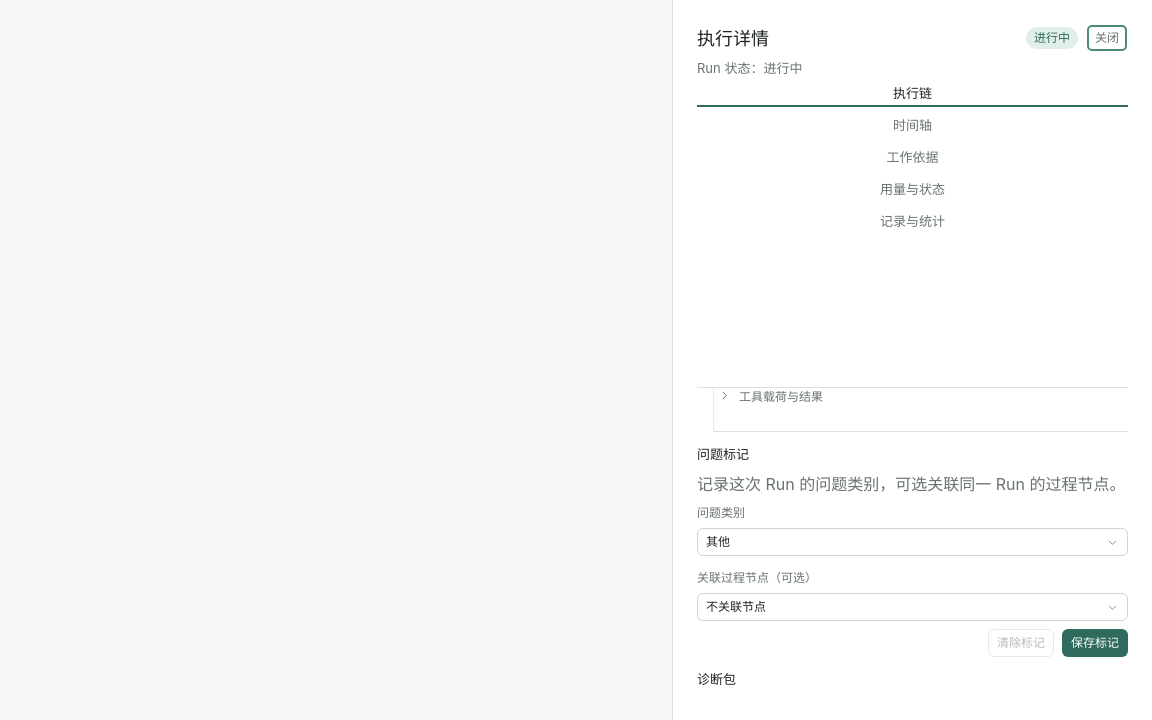
Scenario: RunExecutionDetails › retains the selected issue mark after a save error and confirms a later save once
The image size is (1152, 720).
(page scrolled)
Click the button named "问题类别".
click(718, 542)  # box [697,528,1128,556]
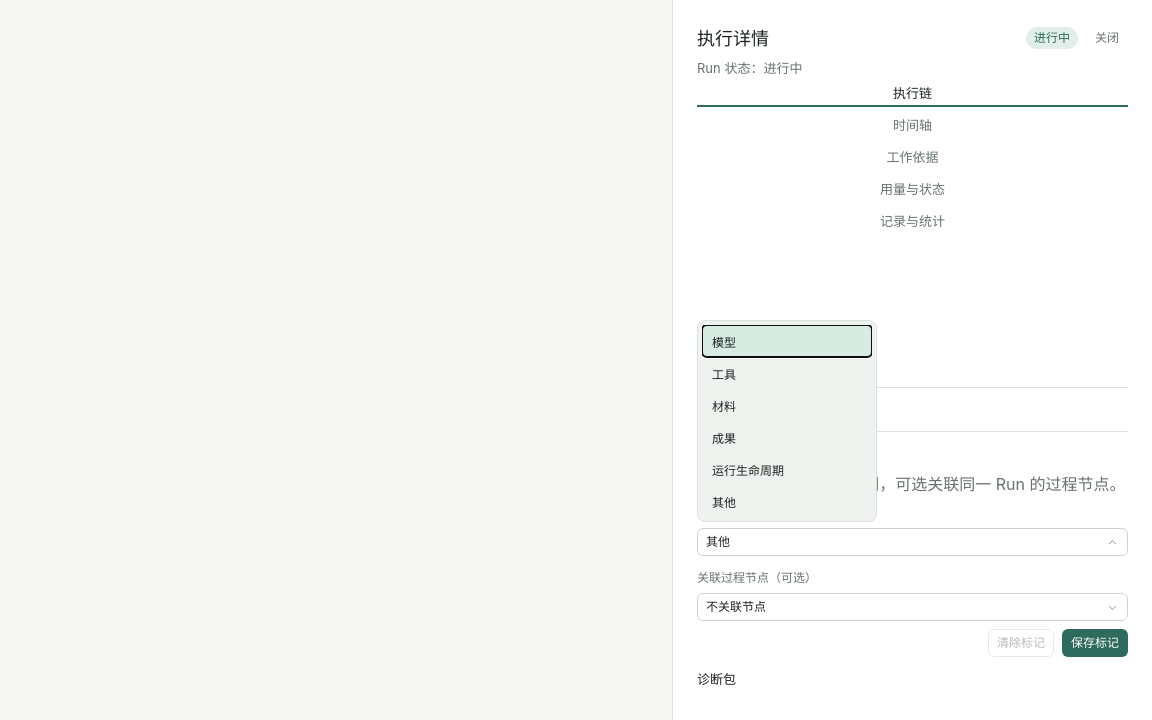
Click the menu item "工具".
click(724, 374)  # box [712,366,736,382]
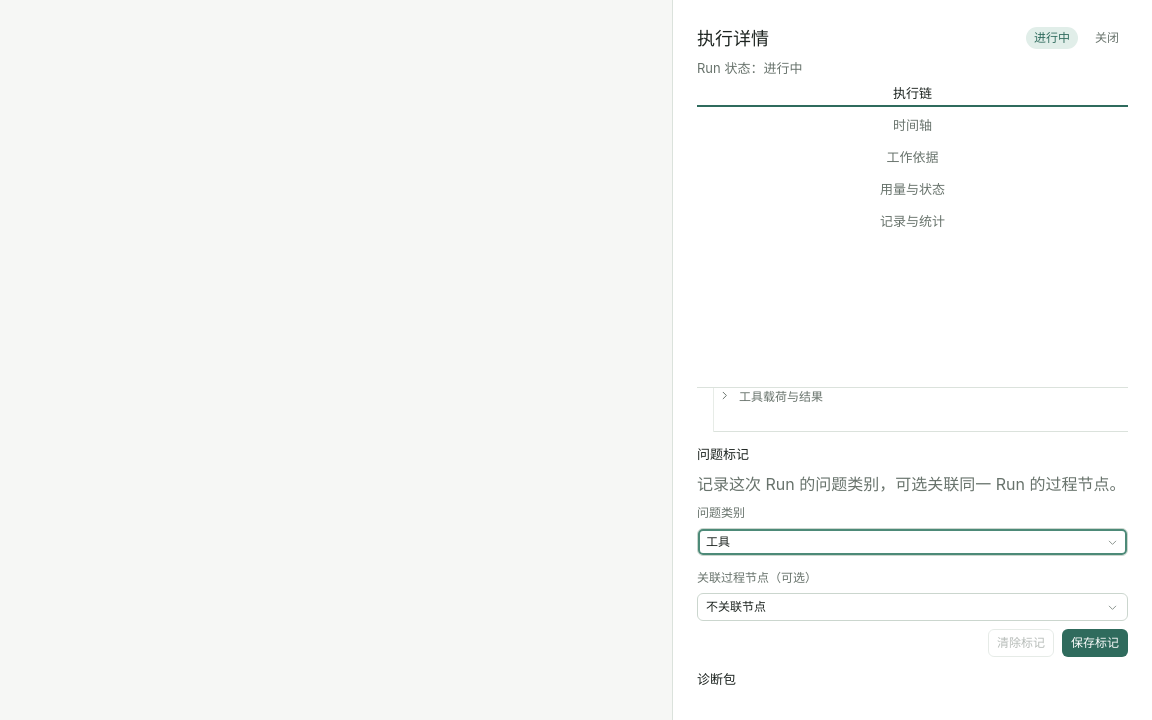
Click the button named "关联过程节点（可选）".
click(736, 607)  # box [697,593,1128,621]
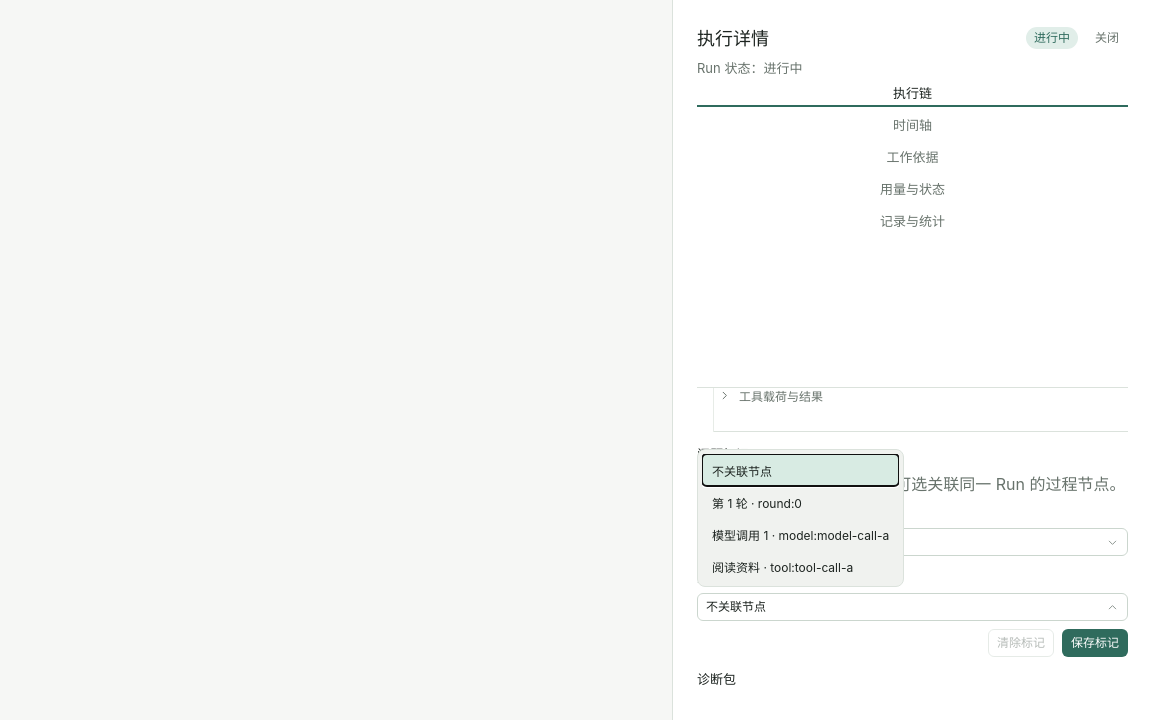
Click the menu item "阅读资料 · tool:tool-call-a".
click(783, 567)  # box [712,560,853,574]
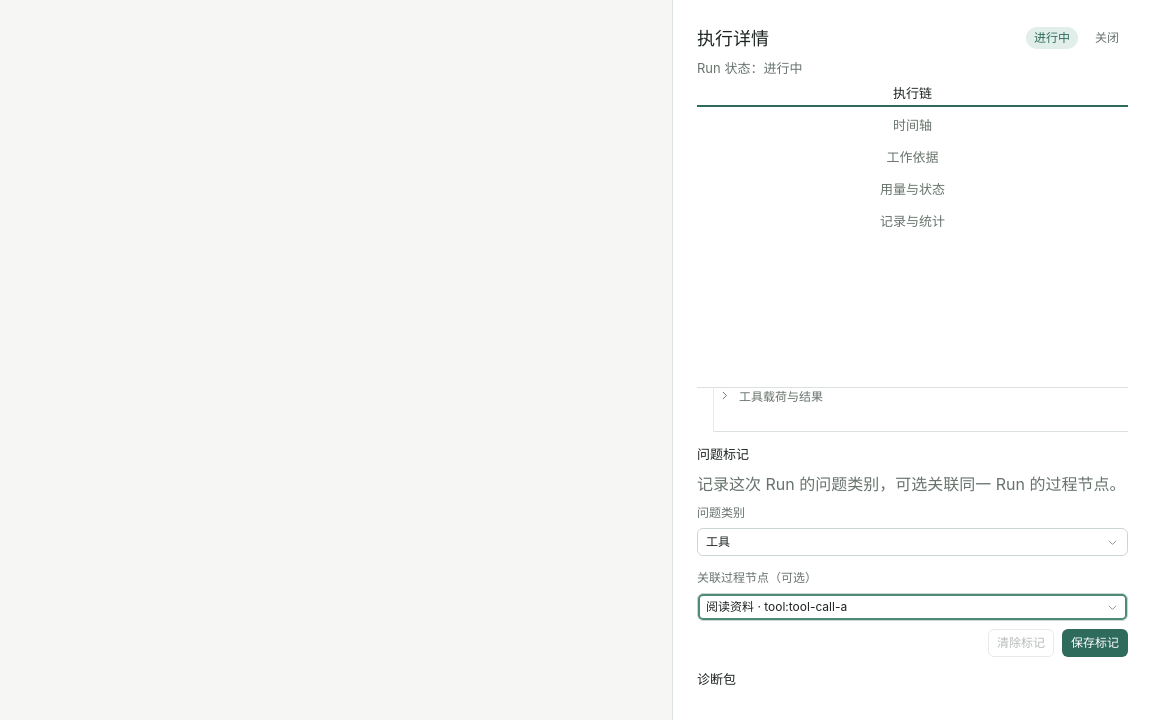
Click the button "保存标记".
click(1095, 643)  # box [1062,629,1128,657]
(page scrolled)
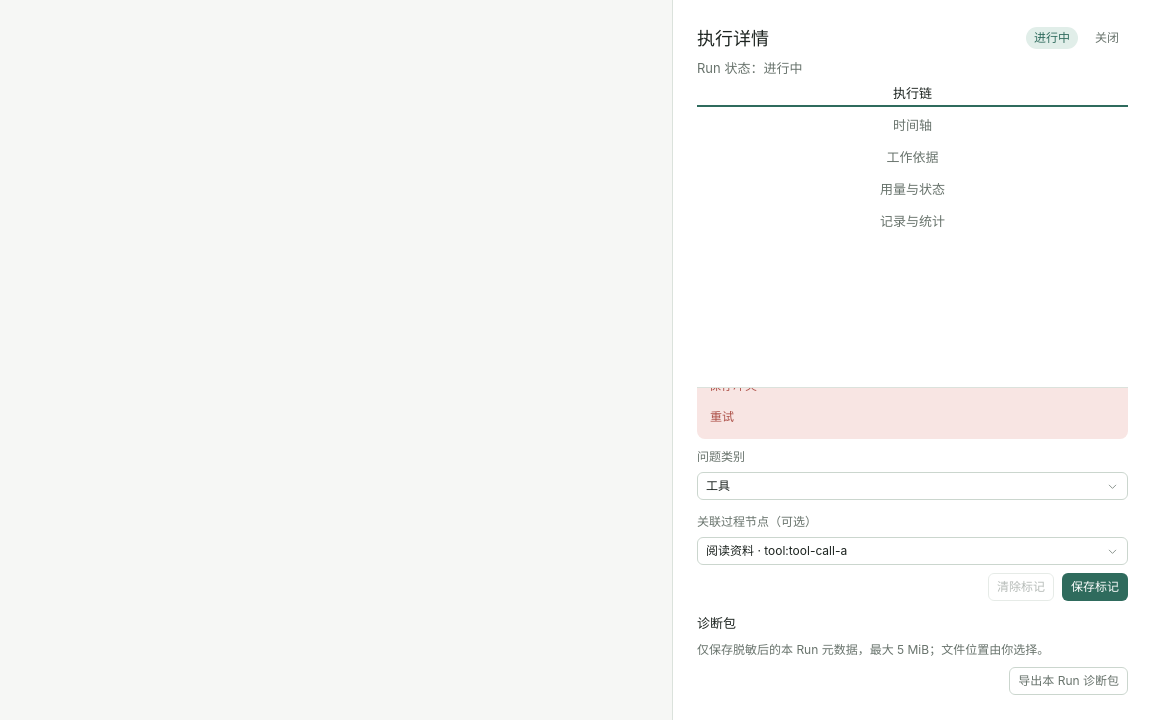
Expected: the button named "问题类别" reads "工具", [697,472,1128,500]
Expected: the button named "关联过程节点（可选）" shows "tool:tool-call-a", [697,537,1128,565]
Expected: the message "保存冲突 重试" is shown, [697,388,1128,439]
Click the button "保存标记".
click(1095, 587)  # box [1062,573,1128,601]
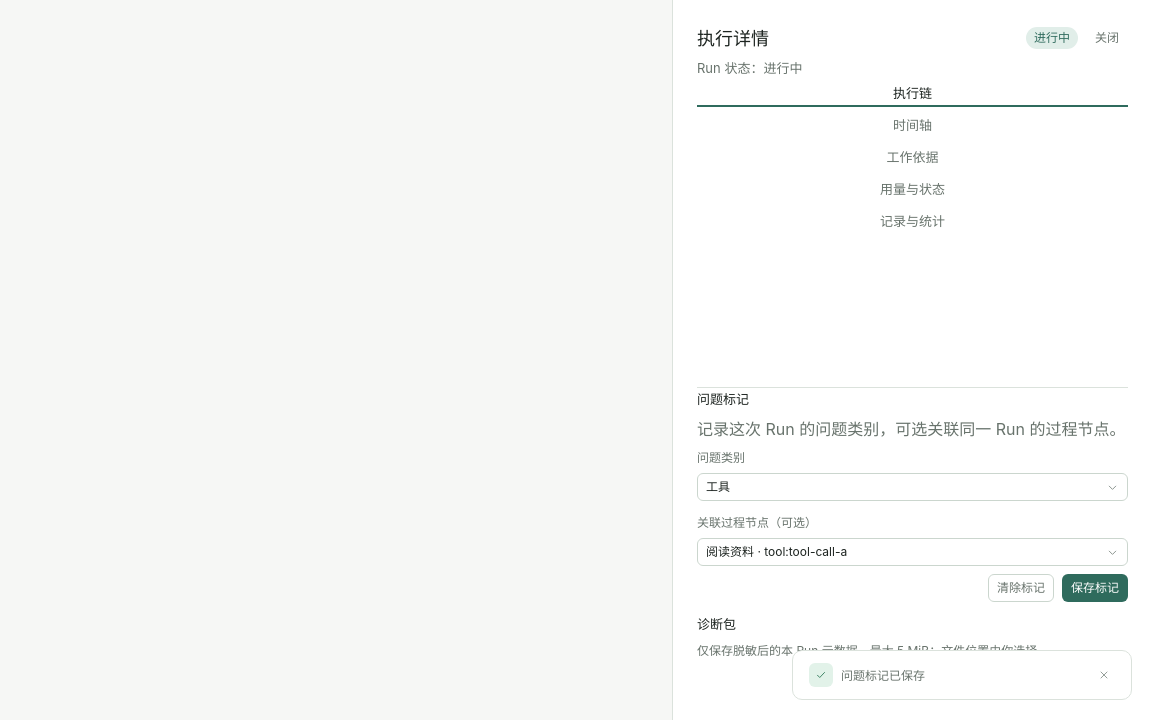
Expected: the message "问题标记已保存" is shown, [792,650,1132,700]
Expected: the message reads "问题标记已保存", [841,668,925,683]
